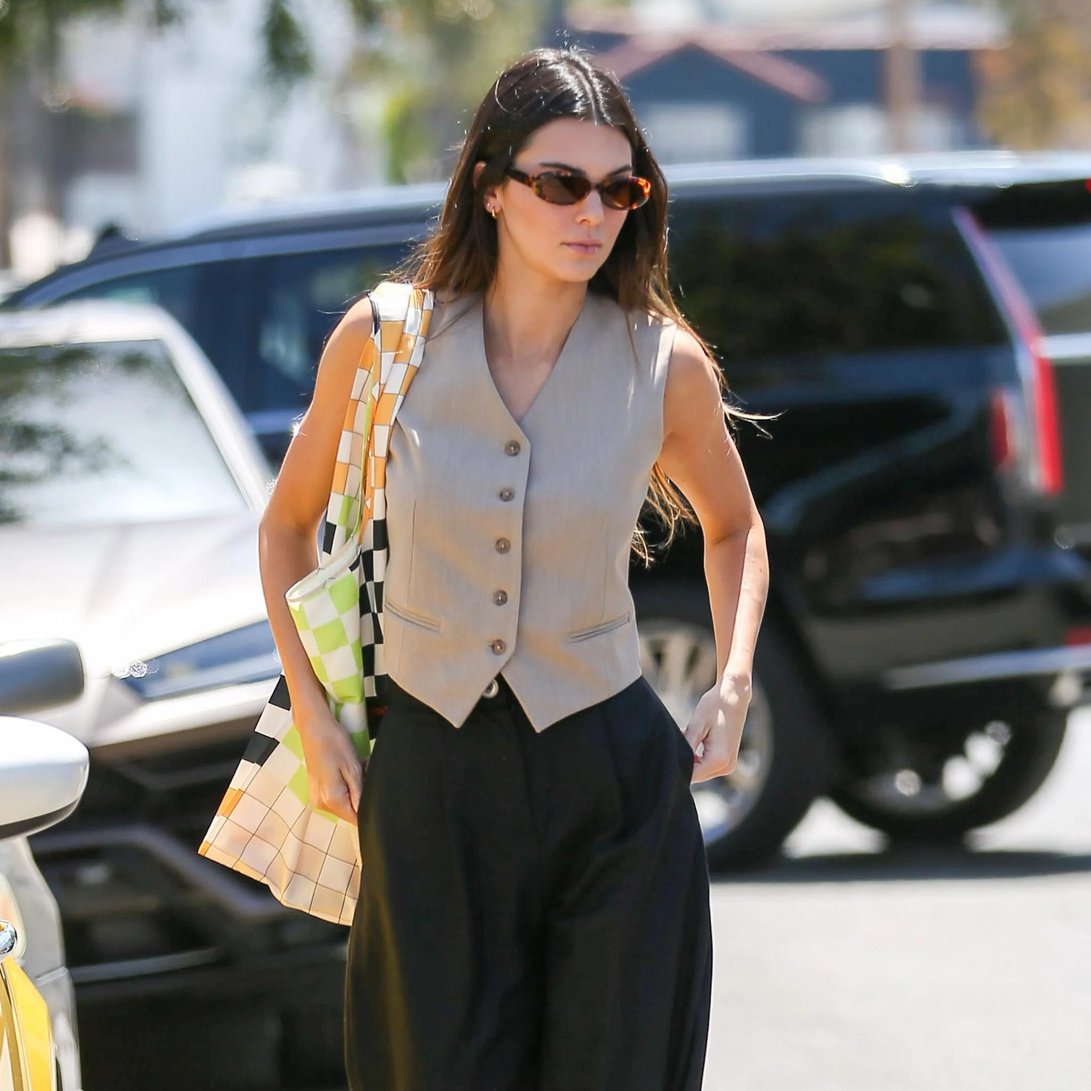trousers: (335, 678, 719, 1091)
vest: (371, 269, 677, 740)
